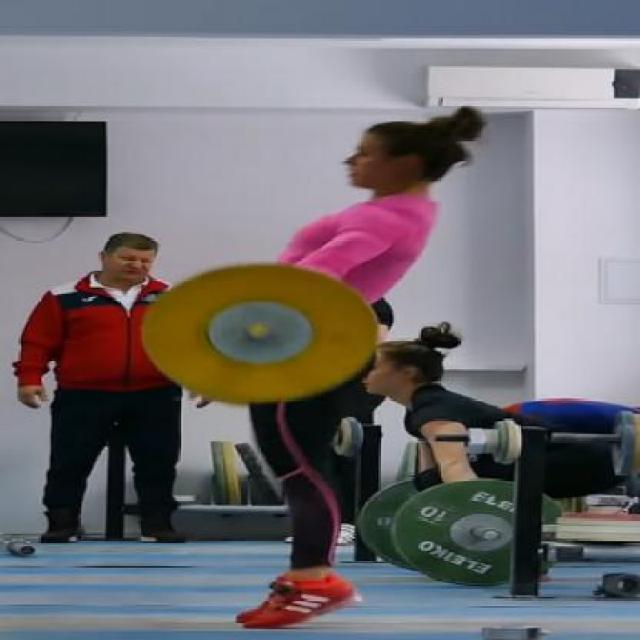Barbell: (237, 318, 283, 342), (476, 516, 506, 547)
